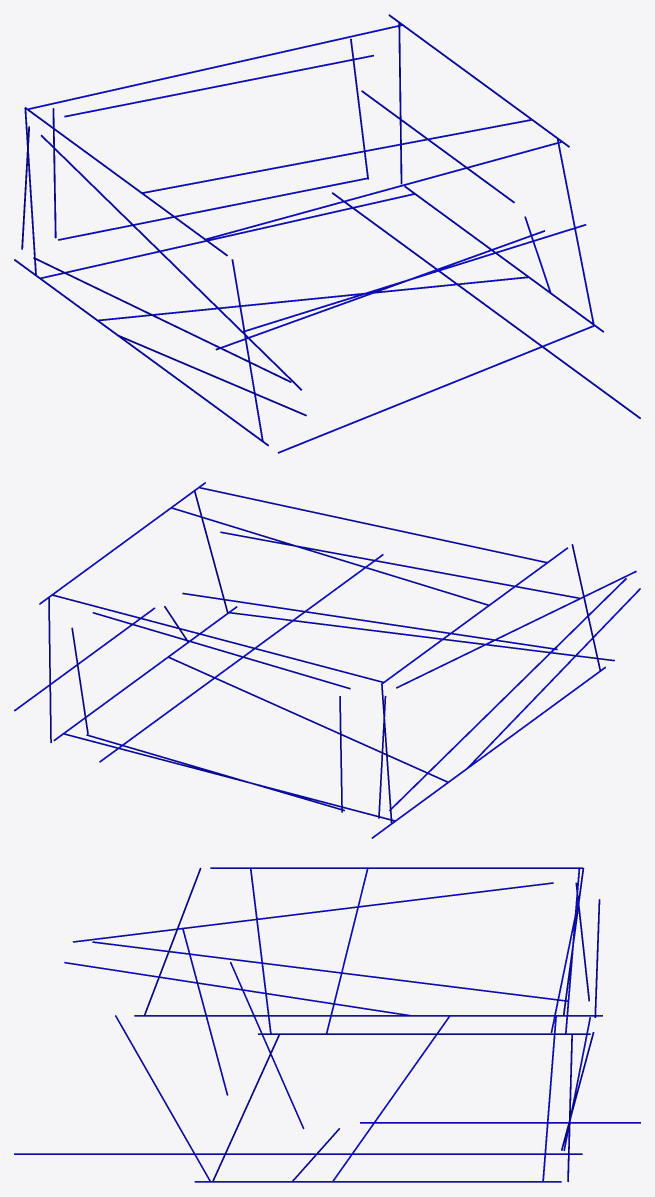
File: corrected_3d_strokes.glb
3 views of the same model, one above another, from view 1: azimuth 30°, elevation 25°; view 2: azimuth 150°, elevation 25°; view 3: azimuth 270°, elevation 25° (orthographic). The views are drawn at different scales.
Visible parts, largest first — view 1: world; view 2: world; view 3: world.
Part boxes in pixels (x1=…): world: x1=14, y1=14, x2=640, y2=453; world: x1=14, y1=482, x2=640, y2=838; world: x1=14, y1=867, x2=640, y2=1182.
Size of the model in its own units: 9.12 by 3.81 by 14.49.
